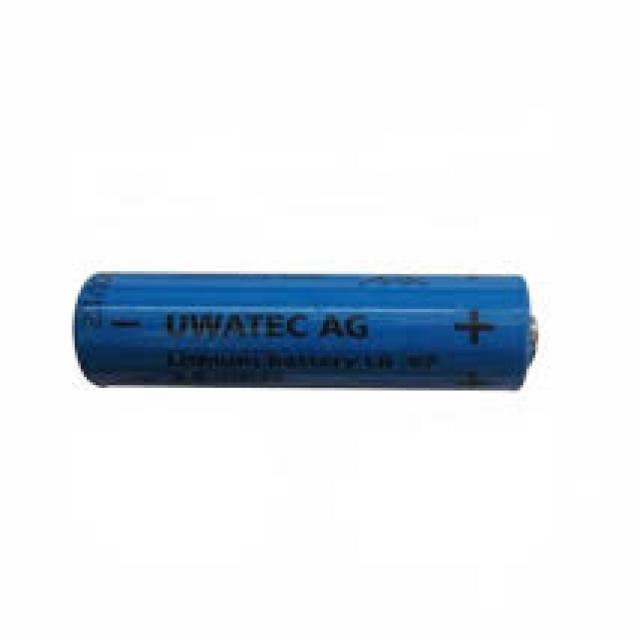battery: (65, 272, 540, 394)
